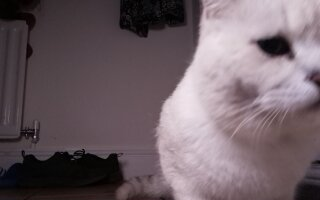bad: (152, 2, 318, 199)
